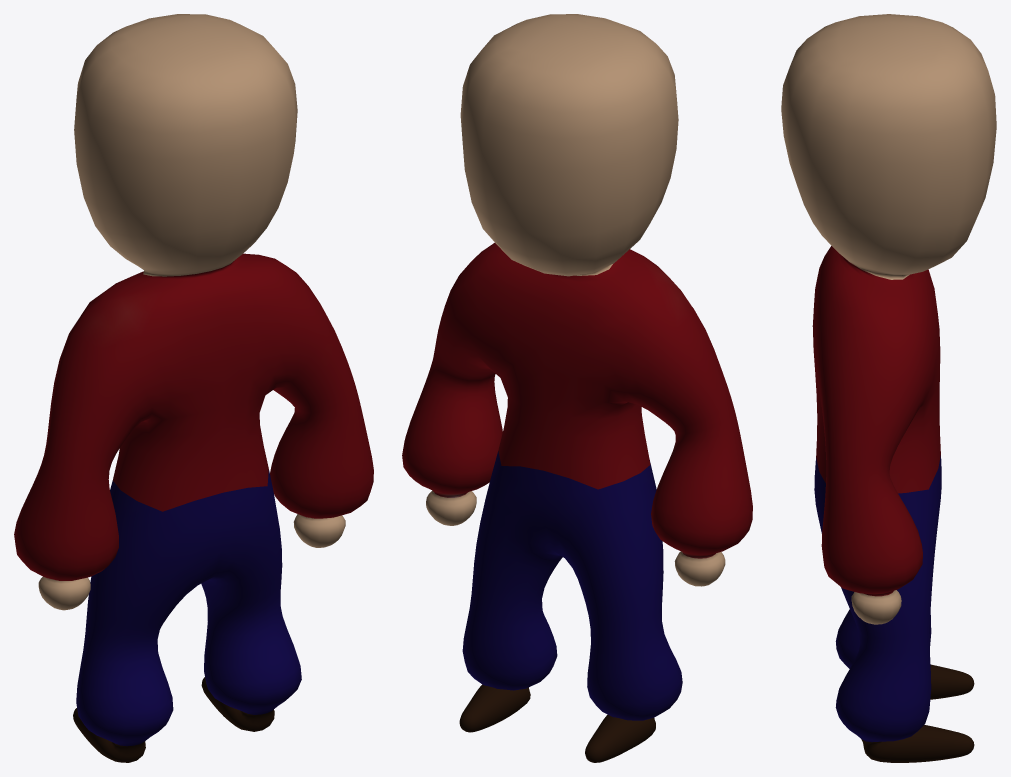
Rendered from MainCharIteration.fbx.
3 renders of one model, left to right at view 1: azimuth 30°, elevation 25°; view 2: azimuth 150°, elevation 25°; view 3: azimuth 270°, elevation 25°, orthographic. The views are drawn at different scales.
Parts seen in each view (by area): view 1: Plane; view 2: Plane; view 3: Plane.
Part boxes in pixels (bbox=[...]): Plane: bbox=[14, 14, 373, 762]; Plane: bbox=[402, 14, 752, 762]; Plane: bbox=[781, 14, 996, 762].
Size of the model in its own units: 0.5482 by 0.3034 by 1.08.
